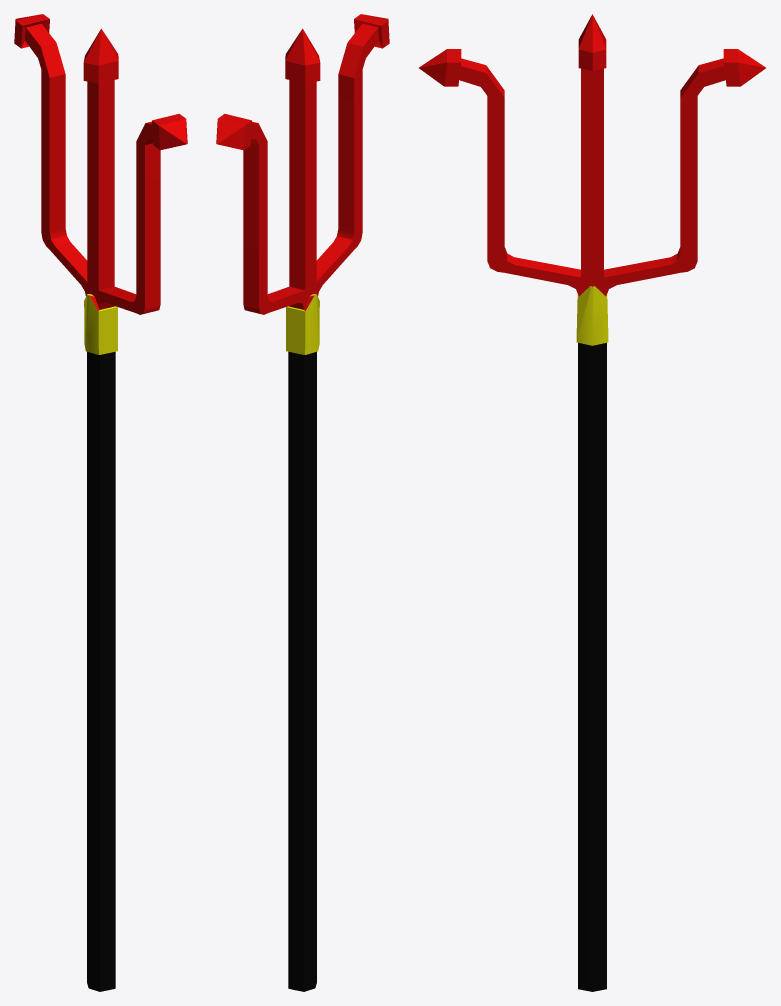
Rendered from Tridente.fbx.
The picture shows the model from 3 angles, left to right: view 1: azimuth 30°, elevation 25°; view 2: azimuth 150°, elevation 25°; view 3: azimuth 270°, elevation 25°; orthographic projection.
Parts seen in each view (by area): view 1: tridente; view 2: tridente; view 3: tridente.
Part boxes in pixels (x1,y1,x2,y2): tridente: (14,14,187,991); tridente: (216,14,389,991); tridente: (419,14,765,991).
Size of the model in its own units: 0.5893 by 15.53 by 5.04.
